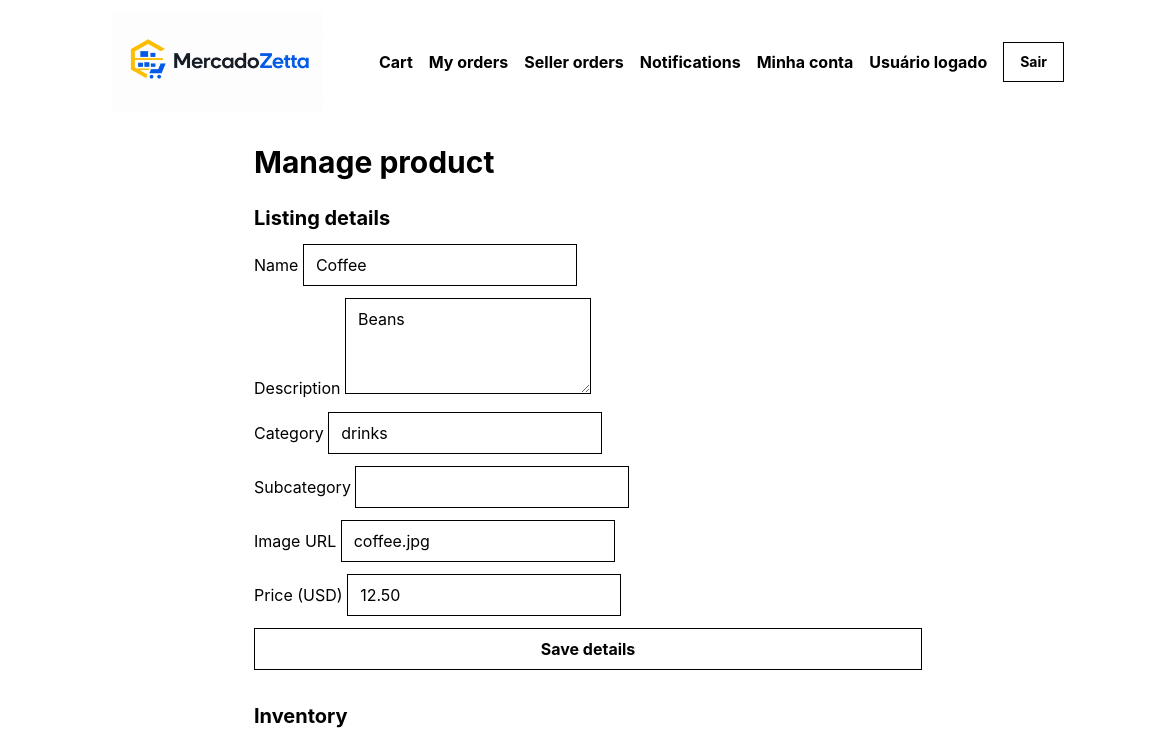
EditProduct › preserves form state and shows API errors
Replace the text in the field labelled "Name" with "Still here" at (440, 265), box [303,244,577,286]
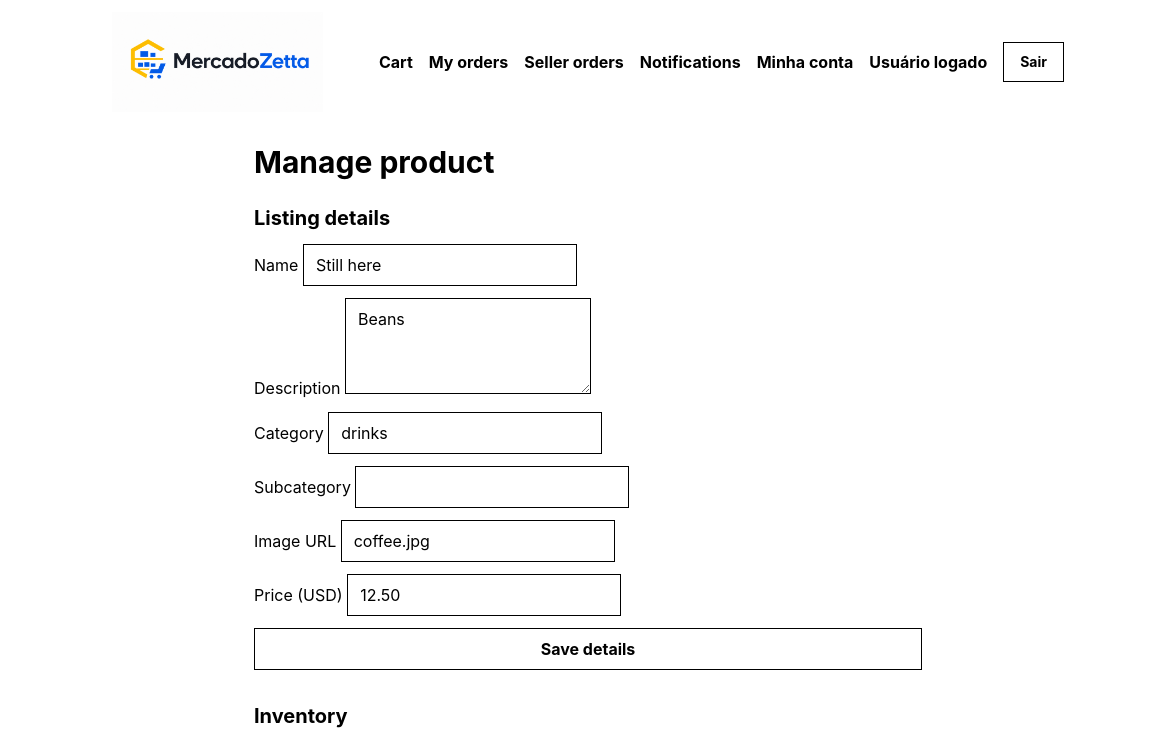
Click the button "Save details".
click(588, 649)  # box [254,628,922,670]
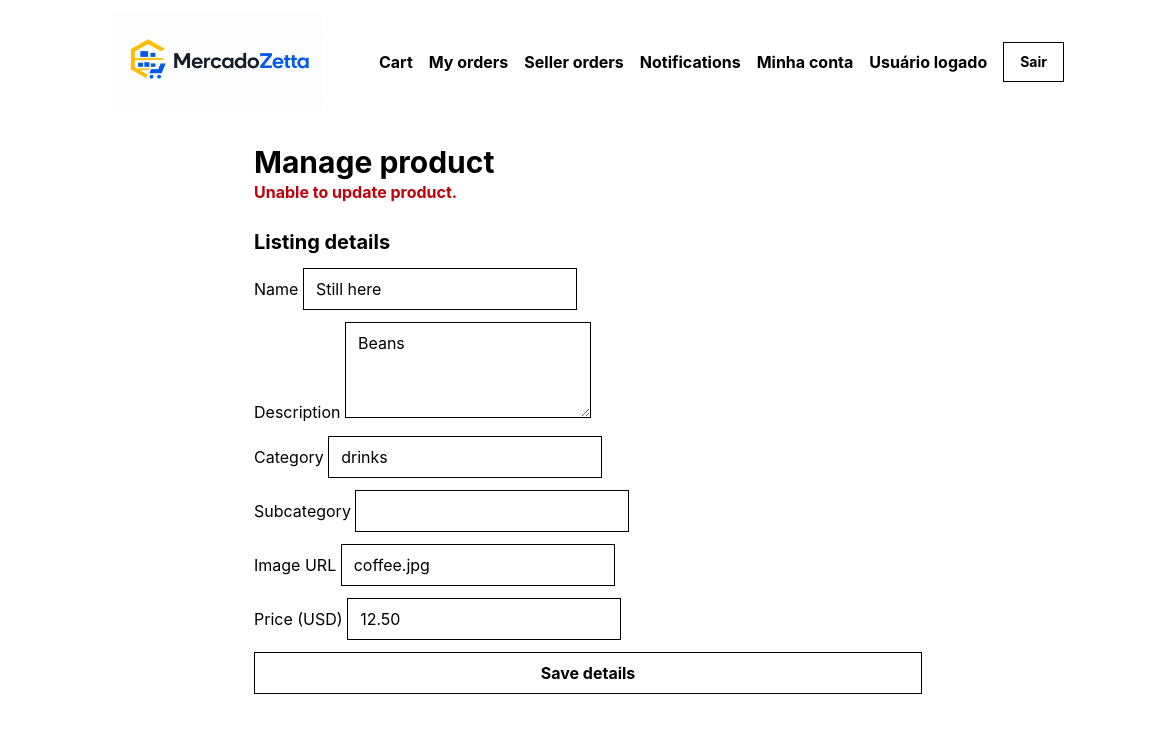
Result: the message reads "Unable to update product." at [254,182,457,202]
